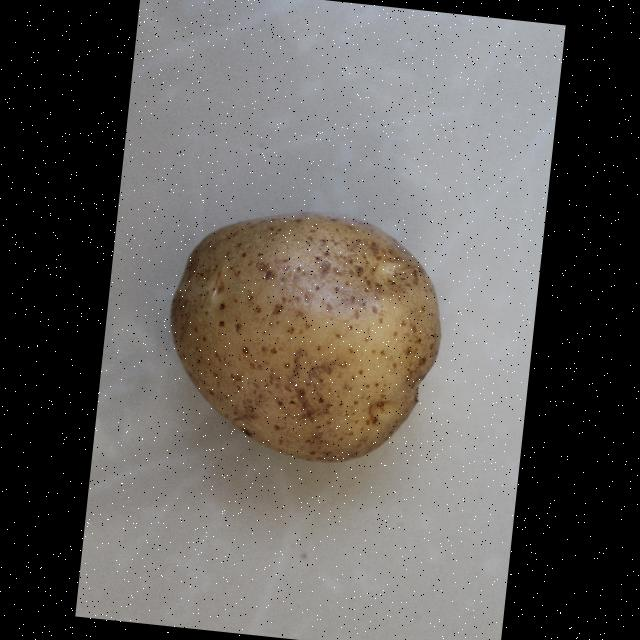Diseased-fungal potato: (148, 193, 458, 474)
